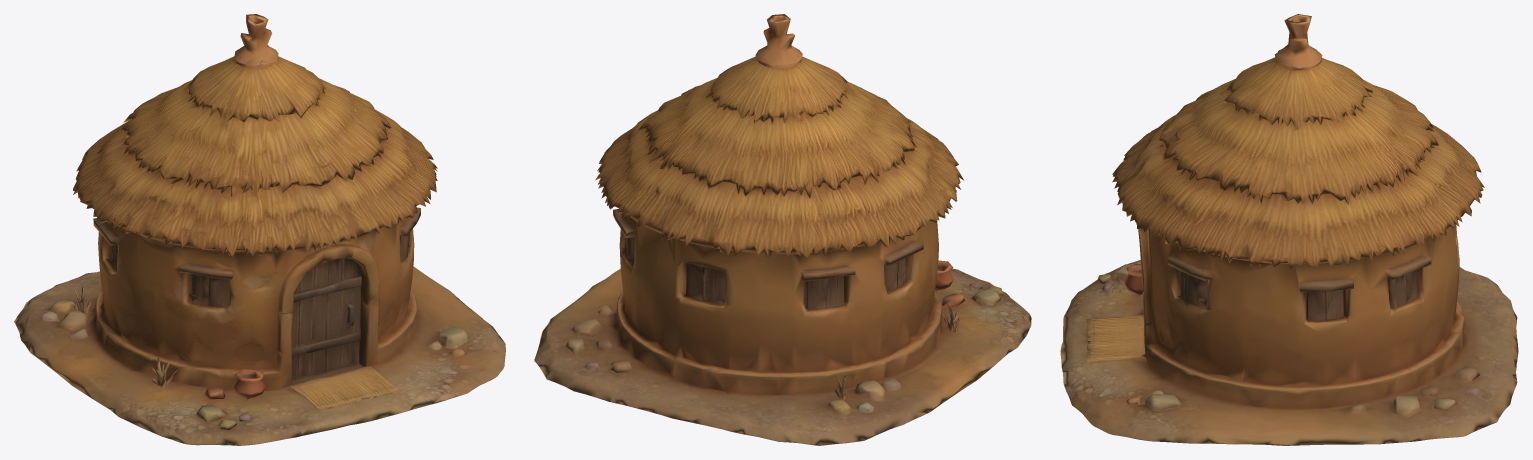
The model's file is journey_hut.glb.
3 views of the same model, side by side, from view 1: azimuth 30°, elevation 25°; view 2: azimuth 150°, elevation 25°; view 3: azimuth 270°, elevation 25° (orthographic). The views are drawn at different scales.
Visible parts, largest first — view 1: tripo_node_31ab6994-f57e-4cf1-81ea-672b88fe0eb6; view 2: tripo_node_31ab6994-f57e-4cf1-81ea-672b88fe0eb6; view 3: tripo_node_31ab6994-f57e-4cf1-81ea-672b88fe0eb6.
Part boxes in pixels (left/top/right/bottom): tripo_node_31ab6994-f57e-4cf1-81ea-672b88fe0eb6: left=14, top=14, right=505, bottom=445; tripo_node_31ab6994-f57e-4cf1-81ea-672b88fe0eb6: left=534, top=14, right=1031, bottom=445; tripo_node_31ab6994-f57e-4cf1-81ea-672b88fe0eb6: left=1060, top=14, right=1518, bottom=445.
Size of the model in its own units: 1 by 0.8081 by 0.9985.
1 material, 1 textured.
